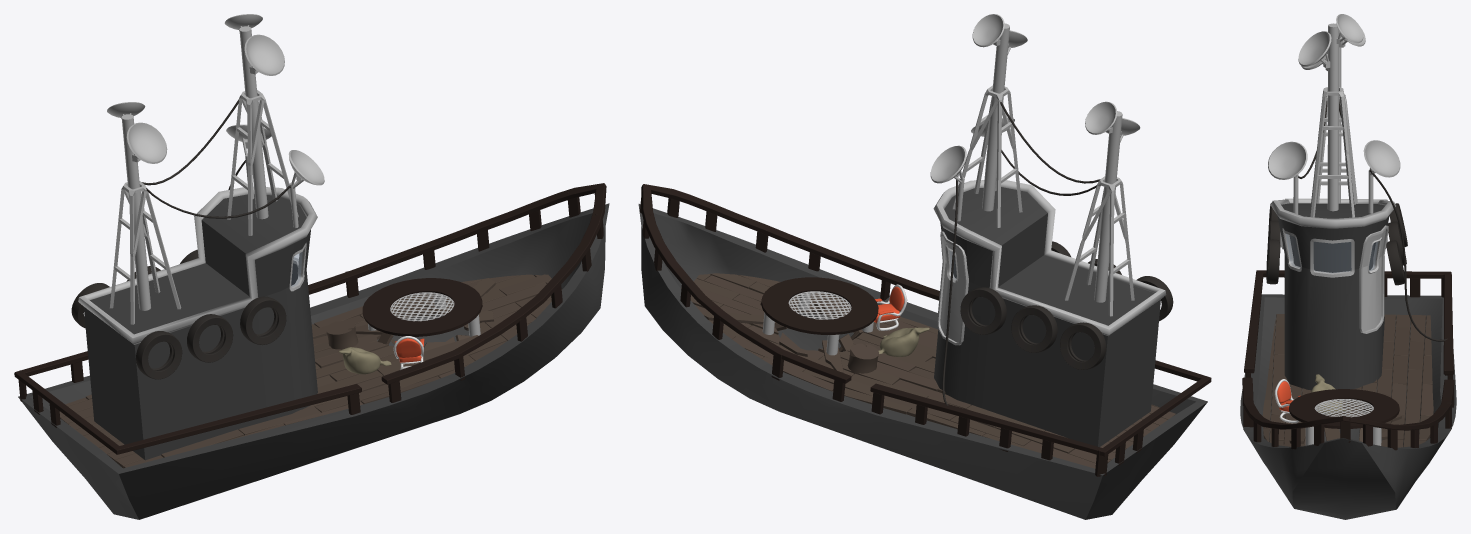
The model's file is fishinboat.glb.
The picture shows the model from 3 angles, left to right: view 1: azimuth 30°, elevation 25°; view 2: azimuth 150°, elevation 25°; view 3: azimuth 270°, elevation 25°; orthographic projection. The views are drawn at different scales.
Parts seen in each view (by area): view 1: boat_hull, Cube.030, boat_railing, boat_floor, boat_tower_railing, table_proto, Cube.032, Cube.031, Cylinder.031, Cylinder.034, Cylinder.027, Cylinder.028 (+9 smaller); view 2: boat_hull, Cube.030, boat_floor, boat_railing, boat_tower_railing, table_proto, Cube.032, Cube.031, boat_door, Cylinder.031, Cylinder.034, cables (+9 smaller); view 3: boat_hull, Cube.030, boat_floor, boat_railing, boat_door, table_proto, Cylinder.034, Cube.031, boat_tower_railing, Cylinder.030, Cylinder.021, window (+15 smaller).
Part boxes in pixels (left/top/right/bottom): boat_hull: left=18, top=203, right=609, bottom=519; Cube.030: left=83, top=194, right=317, bottom=460; boat_railing: left=14, top=183, right=606, bottom=454; boat_floor: left=59, top=274, right=562, bottom=468; boat_tower_railing: left=78, top=186, right=317, bottom=344; table_proto: left=362, top=278, right=482, bottom=336; Cube.032: left=110, top=181, right=181, bottom=324; Cube.031: left=227, top=90, right=298, bottom=235; Cylinder.031: left=121, top=114, right=150, bottom=310; Cylinder.034: left=239, top=26, right=268, bottom=219; Cylinder.027: left=240, top=296, right=286, bottom=345; Cylinder.028: left=187, top=314, right=233, bottom=362; boat_hull: left=638, top=204, right=1207, bottom=519; Cube.030: left=934, top=187, right=1160, bottom=447; boat_floor: left=681, top=273, right=1175, bottom=468; boat_railing: left=640, top=184, right=1211, bottom=476; boat_tower_railing: left=933, top=180, right=1166, bottom=335; table_proto: left=761, top=277, right=878, bottom=334; Cube.032: left=1064, top=176, right=1134, bottom=316; Cube.031: left=952, top=85, right=1022, bottom=227; boat_door: left=937, top=231, right=968, bottom=345; Cylinder.031: left=1094, top=111, right=1122, bottom=302; Cylinder.034: left=982, top=23, right=1009, bottom=211; cables: left=942, top=102, right=1100, bottom=405; boat_hull: left=1240, top=294, right=1456, bottom=519; Cube.030: left=1277, top=203, right=1404, bottom=390; boat_floor: left=1262, top=314, right=1433, bottom=447; boat_railing: left=1242, top=270, right=1454, bottom=450; boat_door: left=1359, top=225, right=1388, bottom=333; table_proto: left=1289, top=389, right=1399, bottom=428; Cylinder.034: left=1327, top=23, right=1338, bottom=211; Cube.031: left=1310, top=87, right=1356, bottom=217; boat_tower_railing: left=1270, top=198, right=1396, bottom=249; Cylinder.030: left=1268, top=141, right=1307, bottom=214; Cylinder.021: left=1363, top=140, right=1400, bottom=213; window: left=1314, top=242, right=1351, bottom=272.
Bounding box in the file's own units: 27.99 × 23.53 × 10.55.
